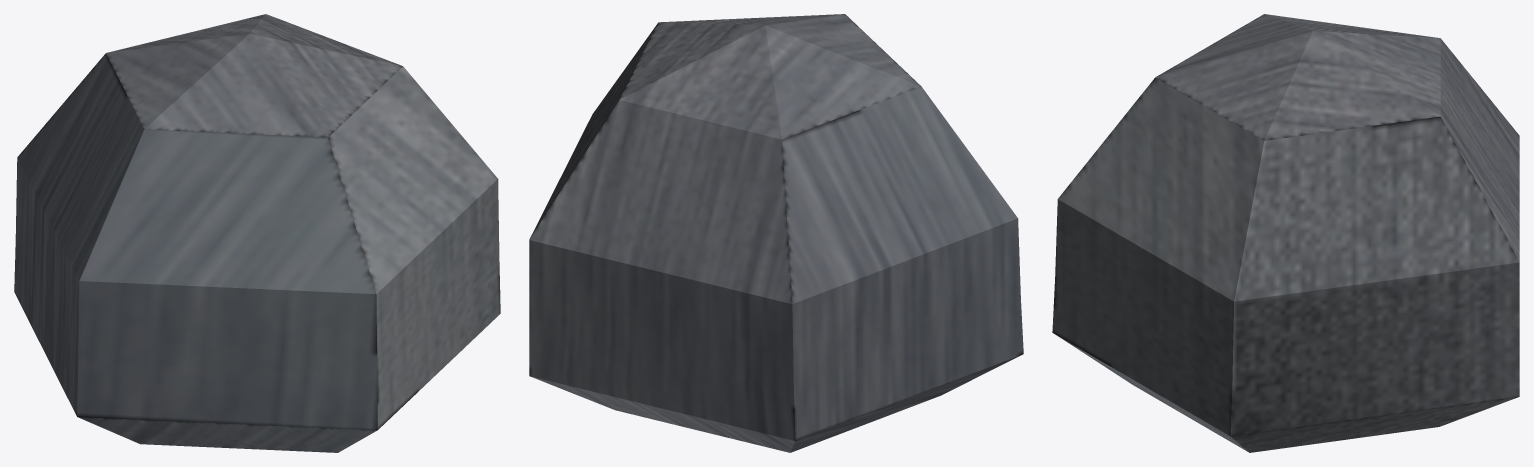
The model's file is SinkKnob.fbx.
3 renders of one model, left to right at view 1: azimuth 30°, elevation 25°; view 2: azimuth 150°, elevation 25°; view 3: azimuth 270°, elevation 25°, orthographic.
Visible parts, largest first — view 1: polySurface195; view 2: polySurface195; view 3: polySurface195.
Part boxes in pixels (x1,y1,x2,y2): polySurface195: (14,14,500,452); polySurface195: (529,14,1023,452); polySurface195: (1052,14,1519,452).
Bounding box in the file's own units: 0.5931 × 0.4723 × 0.5641.
